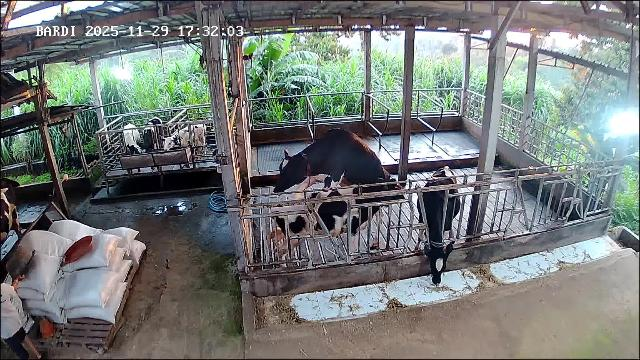mounting: (272, 125, 387, 235)
